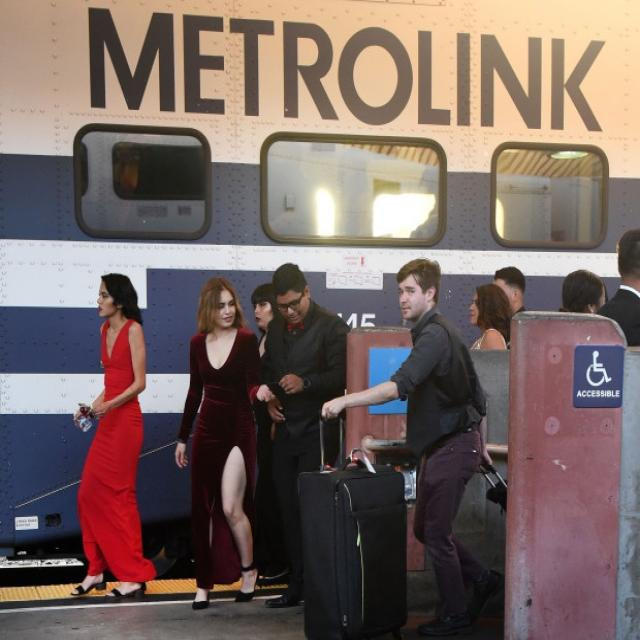body: (320, 253, 497, 639), (171, 273, 277, 613), (259, 260, 349, 610), (67, 271, 160, 603), (593, 228, 640, 350), (468, 282, 514, 350), (556, 267, 609, 317), (250, 282, 279, 363), (492, 264, 528, 323)
